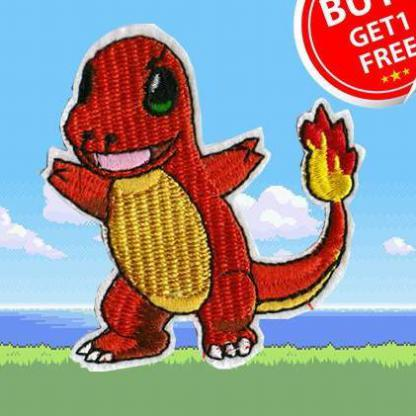Charmander: (53, 34, 362, 385)
